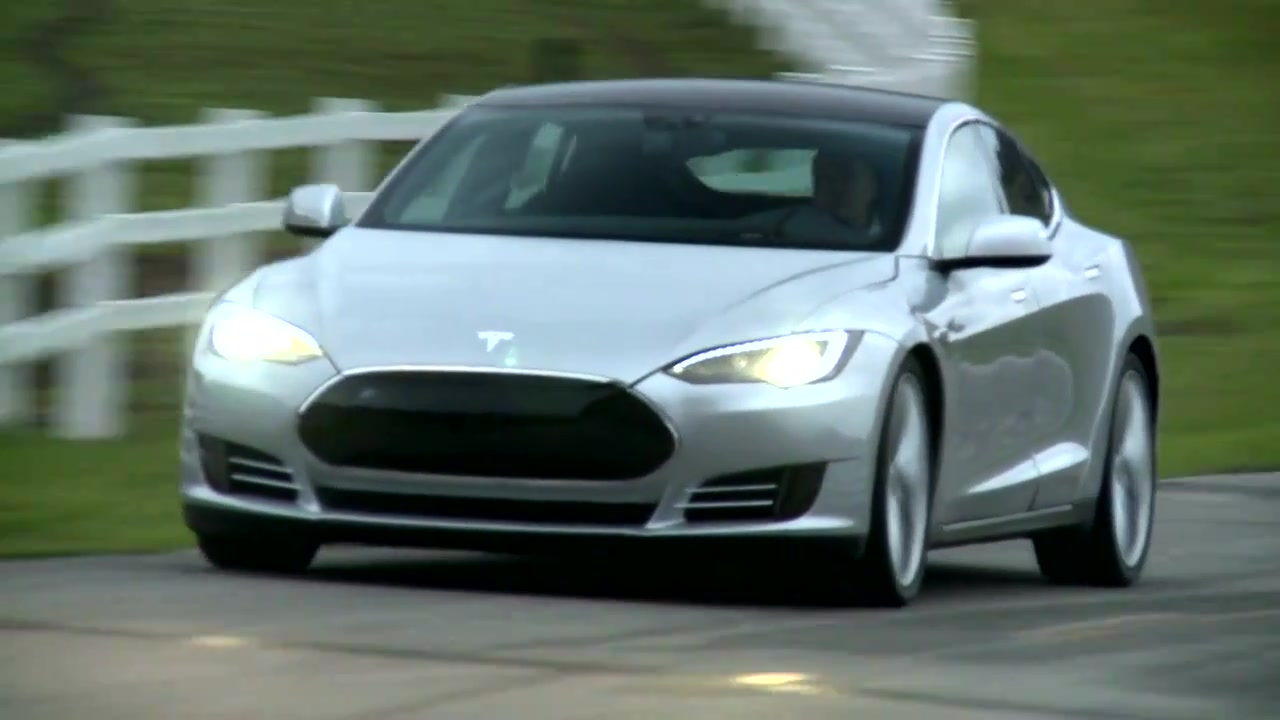car: (176, 69, 1162, 617)
